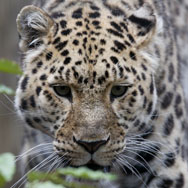amur_leopard: (8, 1, 180, 181)
